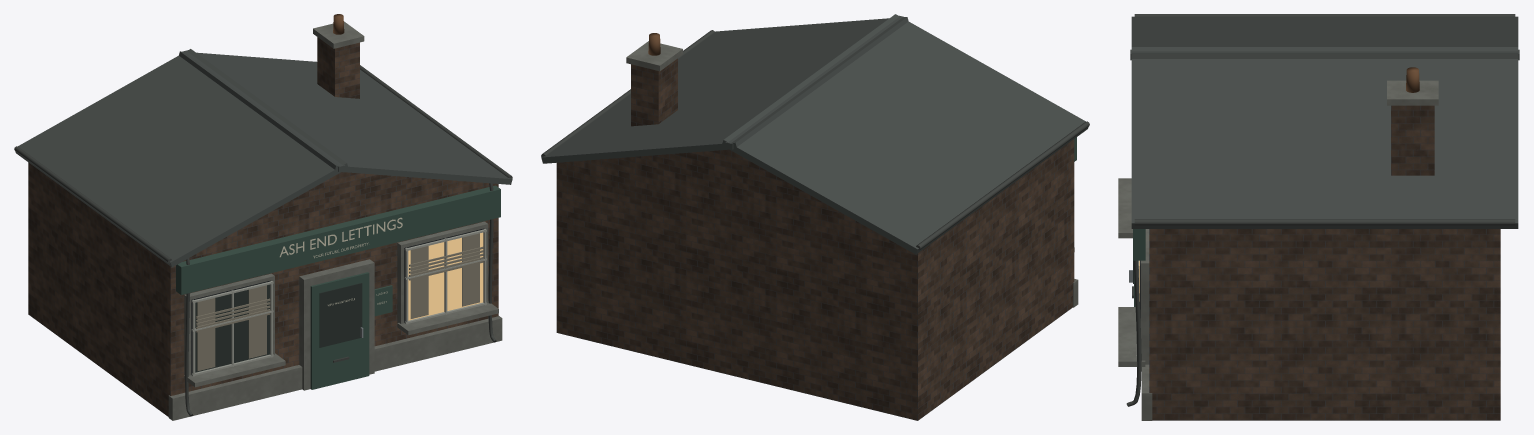
File: lettings-office.glb
3 renders of one model, left to right at view 1: azimuth 30°, elevation 25°; view 2: azimuth 150°, elevation 25°; view 3: azimuth 270°, elevation 25°, orthographic. The views are drawn at different scales.
Parts seen in each view (by area): view 1: Slate roof pitch, Brick office shell, Slate roof pitch.001, Shop sign, Stone damp course, Front gable, Office door, Entrance reveal, Door glass, Window glass.001, Window glass, Chimney stack (+16 smaller); view 2: Brick office shell, Slate roof pitch, Slate roof pitch.001, Rear gable, Chimney stack, Cast iron gutter, Chimney cap, Ridge cap, Cast iron gutter.001; view 3: Brick office shell, Slate roof pitch.001, Slate roof pitch, Chimney stack, Cast iron gutter.001, Cast iron gutter, Chimney cap, Recessed reveal.001, Projecting sill.001, Projecting sill, Ridge cap, Downpipe.001 (+2 smaller).
Boxes of the visible parts, x1=… form: Slate roof pitch: x1=15, y1=49, x2=348, y2=267; Brick office shell: x1=28, y1=162, x2=498, y2=416; Slate roof pitch.001: x1=179, y1=51, x2=512, y2=184; Shop sign: x1=176, y1=185, x2=500, y2=294; Stone damp course: x1=168, y1=316, x2=502, y2=420; Front gable: x1=212, y1=172, x2=470, y2=245; Office door: x1=310, y1=272, x2=369, y2=389; Entrance reveal: x1=299, y1=259, x2=374, y2=390; Door glass: x1=319, y1=283, x2=362, y2=347; Window glass.001: x1=408, y1=232, x2=483, y2=320; Window glass: x1=195, y1=284, x2=269, y2=372; Chimney stack: x1=317, y1=37, x2=359, y2=98; Brick office shell: x1=556, y1=139, x2=1074, y2=420; Slate roof pitch: x1=722, y1=14, x2=1088, y2=254; Slate roof pitch.001: x1=541, y1=17, x2=908, y2=163; Rear gable: x1=587, y1=149, x2=872, y2=230; Chimney stack: x1=631, y1=58, x2=677, y2=126; Cast iron gutter: x1=916, y1=121, x2=1089, y2=250; Chimney cap: x1=626, y1=41, x2=682, y2=71; Ridge cap: x1=725, y1=15, x2=903, y2=149; Cast iron gutter.001: x1=541, y1=30, x2=714, y2=156; Brick office shell: x1=1149, y1=229, x2=1500, y2=420; Slate roof pitch.001: x1=1131, y1=47, x2=1518, y2=228; Slate roof pitch: x1=1131, y1=16, x2=1518, y2=58; Chimney stack: x1=1391, y1=105, x2=1434, y2=175; Cast iron gutter.001: x1=1134, y1=219, x2=1515, y2=225; Cast iron gutter: x1=1134, y1=14, x2=1515, y2=17; Chimney cap: x1=1387, y1=80, x2=1438, y2=105; Recessed reveal.001: x1=1140, y1=229, x2=1149, y2=364; Projecting sill.001: x1=1118, y1=307, x2=1145, y2=366; Projecting sill: x1=1118, y1=178, x2=1132, y2=238; Ridge cap: x1=1130, y1=49, x2=1519, y2=60; Downpipe.001: x1=1126, y1=260, x2=1141, y2=406.
Bounding box in the file's own units: 8.41 × 6 × 6.86.
13 materials, 2 textured.
